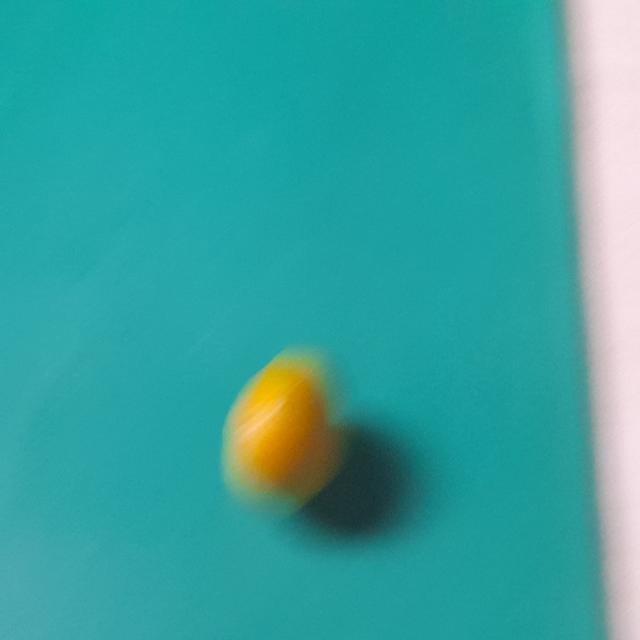greening: (220, 337, 326, 514)
